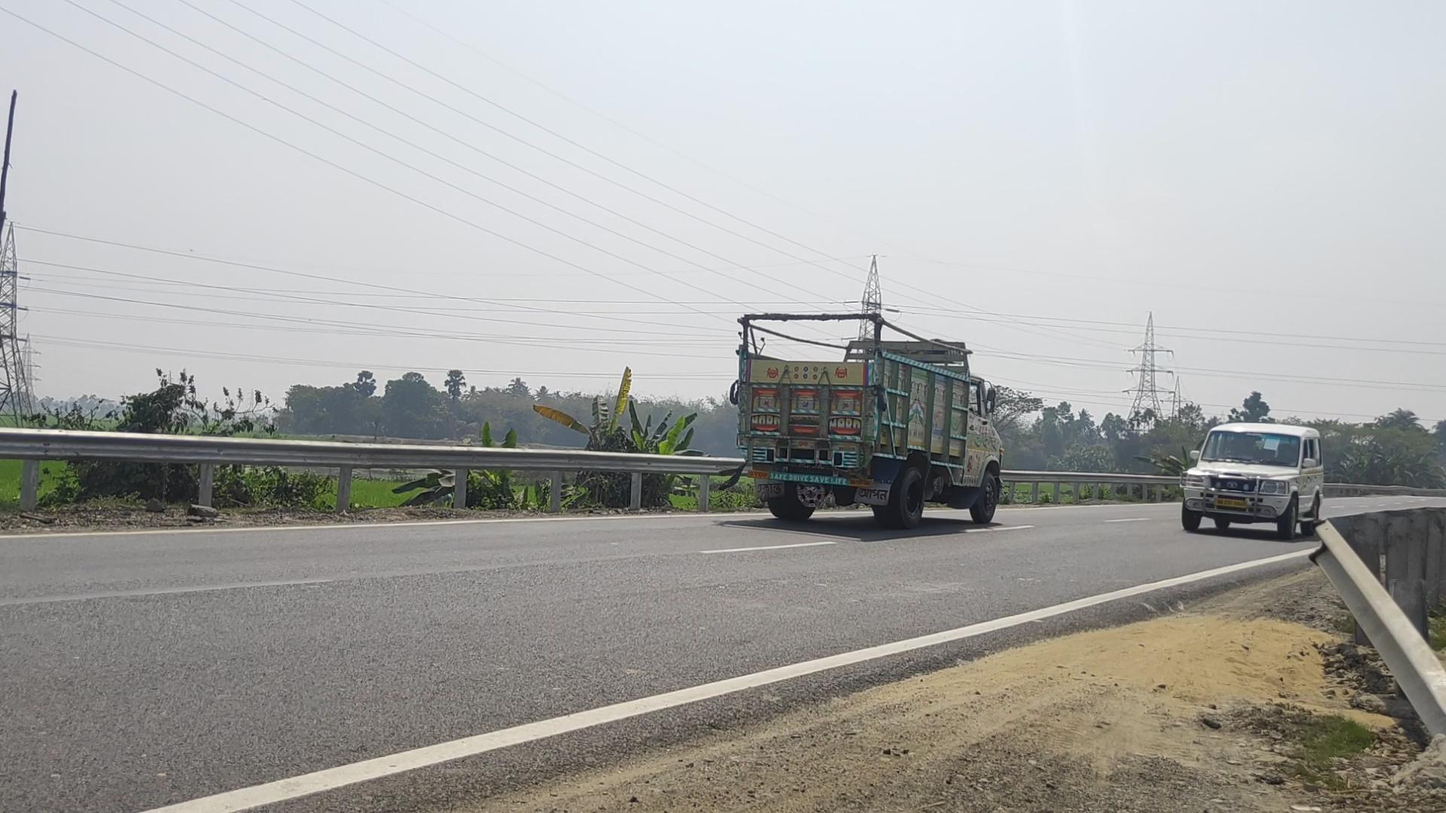car: (1179, 422, 1323, 540)
truck: (735, 312, 1004, 530)
